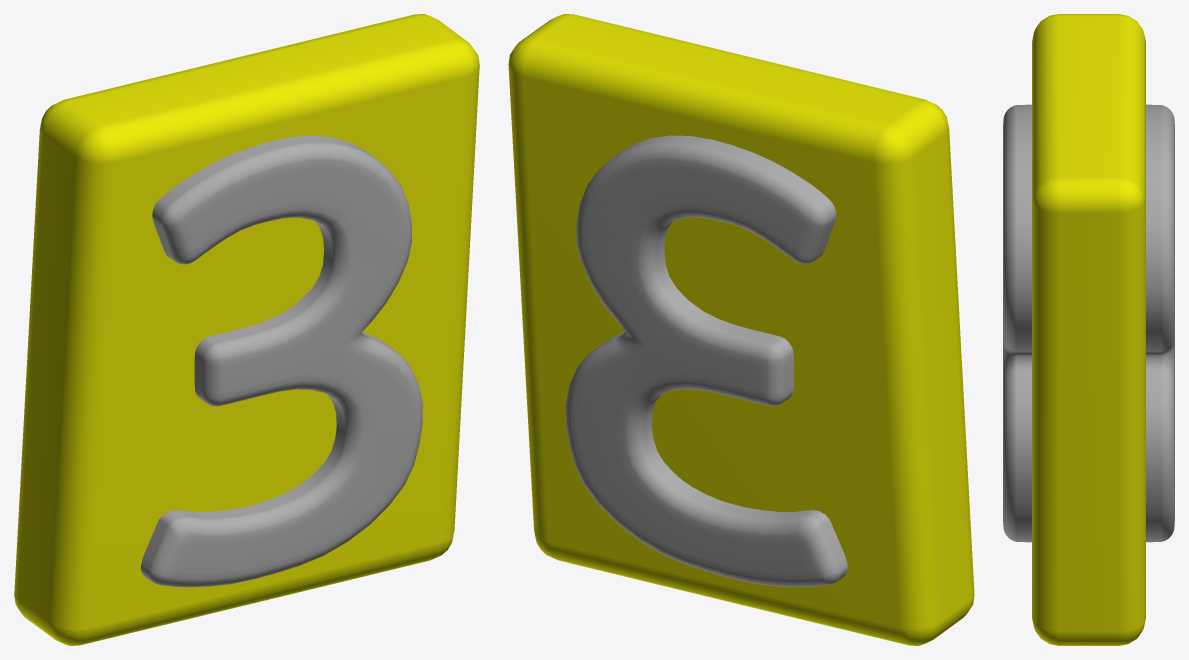
Rendered from number_03.fbx.
3 renders of one model, left to right at view 1: azimuth 30°, elevation 25°; view 2: azimuth 150°, elevation 25°; view 3: azimuth 270°, elevation 25°, orthographic. The views are drawn at different scales.
Parts seen in each view (by area): view 1: number_03; view 2: number_03; view 3: number_03.
Part boxes in pixels (box(x1,y1,x2,y2)): number_03: box(14, 14, 479, 645); number_03: box(508, 14, 974, 645); number_03: box(1003, 14, 1174, 645).
Size of the model in its own units: 37.68 by 43.15 by 14.03.
